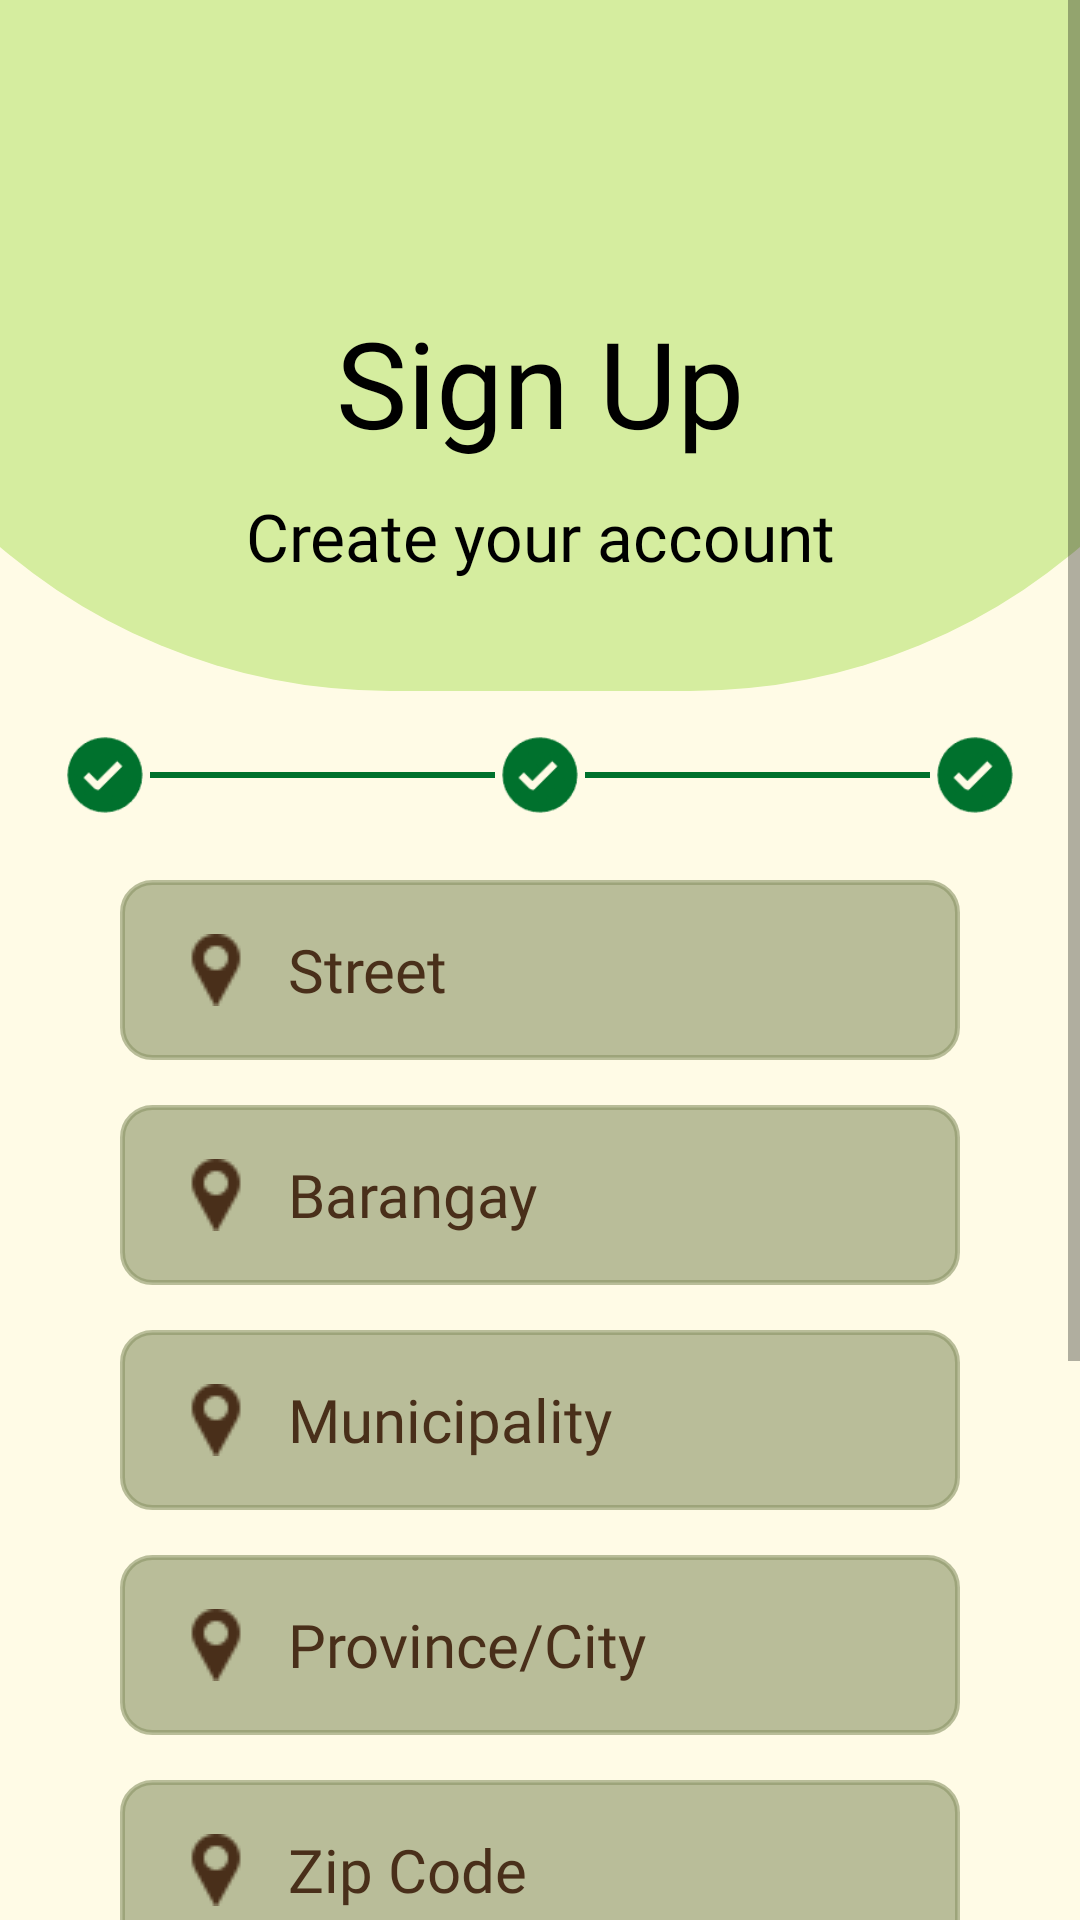

Icons on this 1080px x 1920px Android screen, each with the point to tap as [x,y]:
done check: [105,775], [540,775], [975,775]
